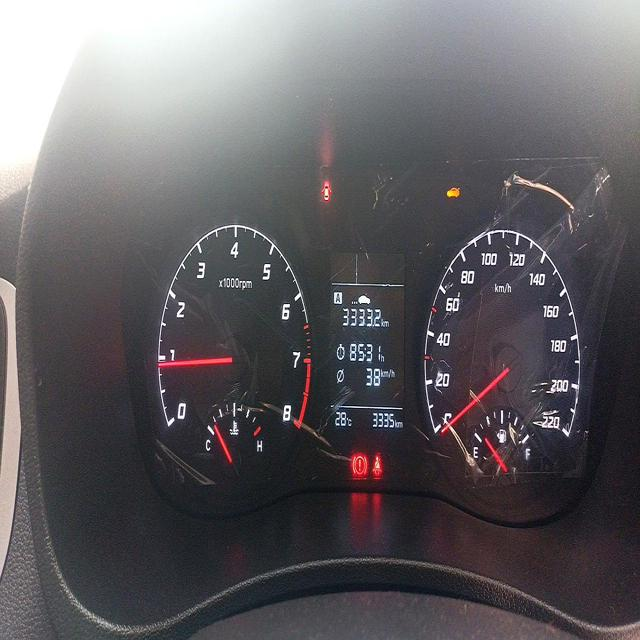odometer: (372, 410, 395, 431)
